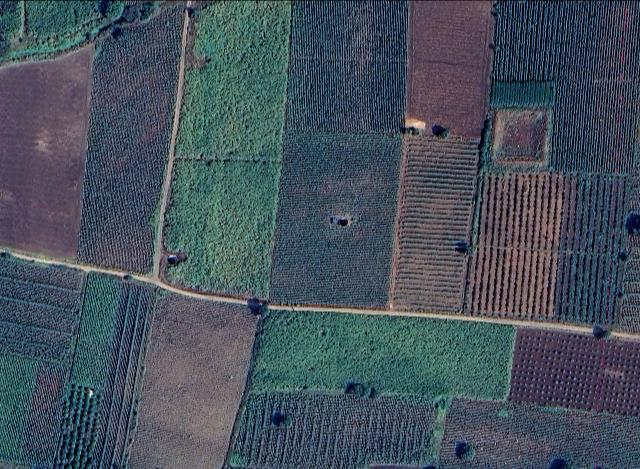EmptyFarms: (0, 41, 95, 264), (410, 0, 500, 138)
Farms: (462, 0, 640, 326), (164, 0, 297, 298), (79, 3, 185, 274), (127, 282, 263, 469), (250, 307, 517, 402), (266, 133, 401, 312), (58, 272, 159, 469), (0, 251, 89, 469), (230, 389, 446, 469), (390, 131, 483, 316), (287, 0, 410, 134), (441, 399, 640, 469), (509, 323, 640, 415)
